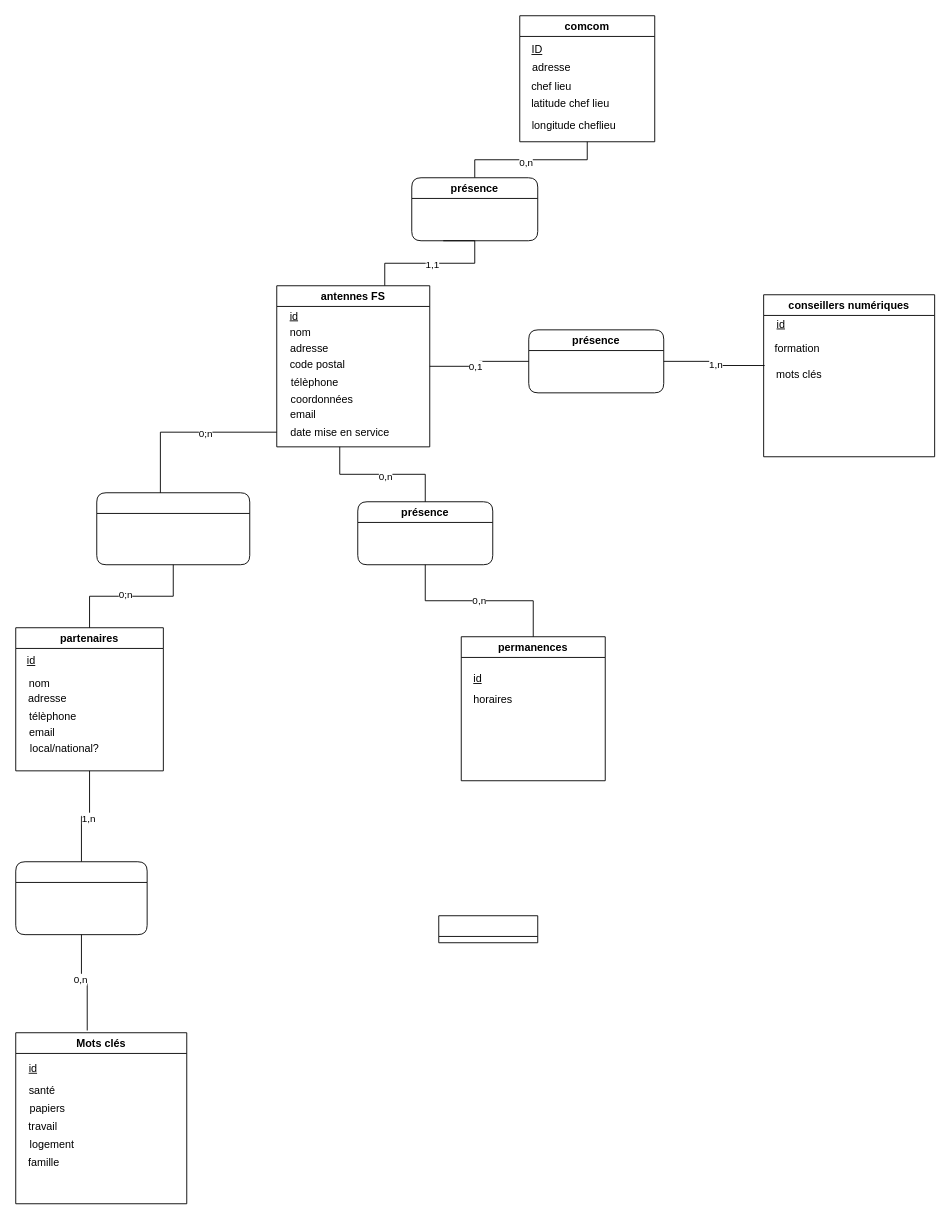
This 950x1220 diagram has some shape labels left out. The centre of each missing label's shape, as x and y in pixels:
lien: the point at 81,898
papramètres: the point at 488,929
échange: the point at 173,528
